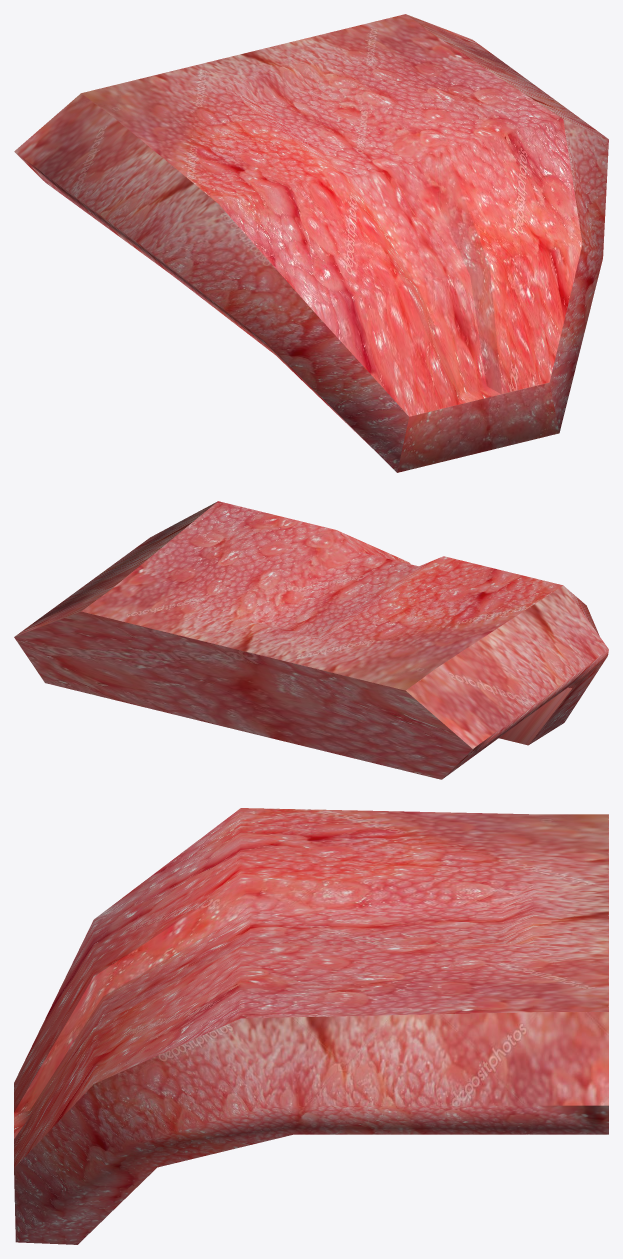
File: tongue_model.fbx
The picture shows the model from 3 angles, top to bottom: view 1: azimuth 30°, elevation 25°; view 2: azimuth 150°, elevation 25°; view 3: azimuth 270°, elevation 25°; orthographic projection. The views are drawn at different scales.
Parts seen in each view (by area): view 1: pCube10; view 2: pCube10; view 3: pCube10.
Boxes of the visible parts, x1,y1,x2,y2 form: pCube10: (14,14,608,472); pCube10: (14,501,608,779); pCube10: (14,808,608,1244).
Size of the model in its own units: 1.31 by 0.6331 by 1.18.
